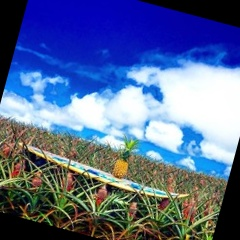Pineapple: (113, 135, 137, 179)
